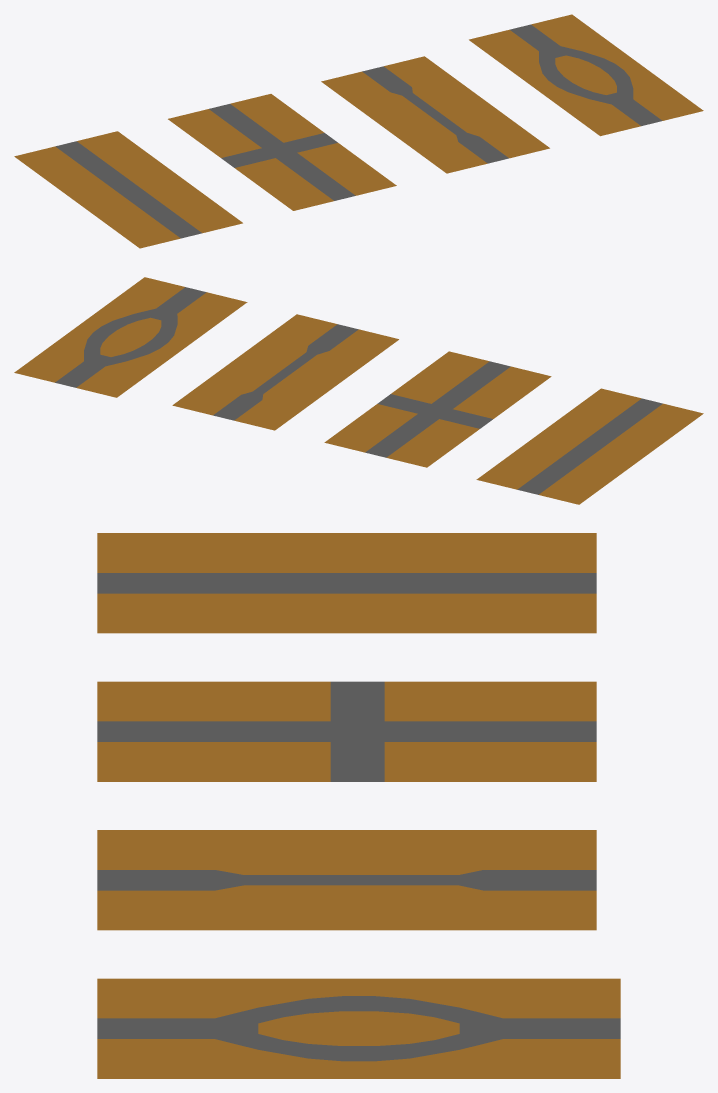
Rendered from Track_ABCD.fbx.
The picture shows the model from 3 angles, top to bottom: view 1: azimuth 30°, elevation 25°; view 2: azimuth 150°, elevation 25°; view 3: azimuth 270°, elevation 25°; orthographic projection. The views are drawn at different scales.
Parts seen in each view (by area): view 1: Sand_C, Sand_A, Sand_D, Sand_B, Road_B, Road_D, Road_A, Road_C; view 2: Sand_C, Sand_A, Sand_D, Sand_B, Road_B, Road_D, Road_A, Road_C; view 3: Sand_C, Sand_A, Sand_D, Sand_B, Road_B, Road_D, Road_A, Road_C.
Boxes of the visible parts, box(x1,y1,x2,y2) form: Sand_C: box(321, 56, 549, 173); Sand_A: box(14, 131, 242, 248); Sand_D: box(469, 14, 703, 136); Sand_B: box(168, 94, 396, 210); Road_B: box(209, 104, 355, 200); Road_D: box(510, 24, 662, 125); Road_A: box(55, 141, 201, 238); Road_C: box(362, 66, 508, 163); Sand_C: box(172, 314, 398, 430); Sand_A: box(476, 388, 703, 504); Sand_D: box(14, 277, 247, 397); Sand_B: box(324, 351, 551, 467); Road_B: box(365, 361, 510, 457); Road_D: box(55, 287, 206, 387); Road_A: box(517, 398, 662, 494); Road_C: box(213, 324, 358, 420); Sand_C: box(97, 830, 596, 930); Sand_A: box(97, 533, 596, 633); Sand_D: box(97, 978, 620, 1078); Sand_B: box(97, 681, 596, 781); Road_B: box(97, 681, 596, 781); Road_D: box(97, 996, 620, 1061); Road_A: box(97, 573, 596, 593); Road_C: box(97, 870, 596, 890).
Size of the model in its own units: 368 by 1.25e-06 by 149.
